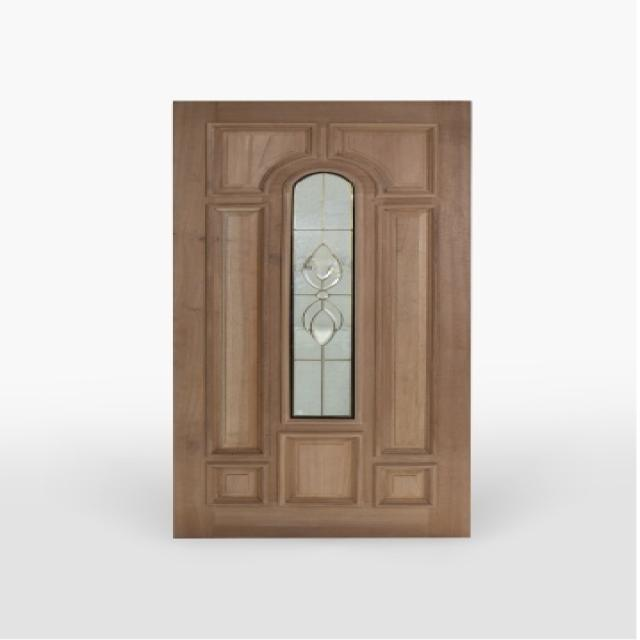door: (171, 100, 473, 538)
